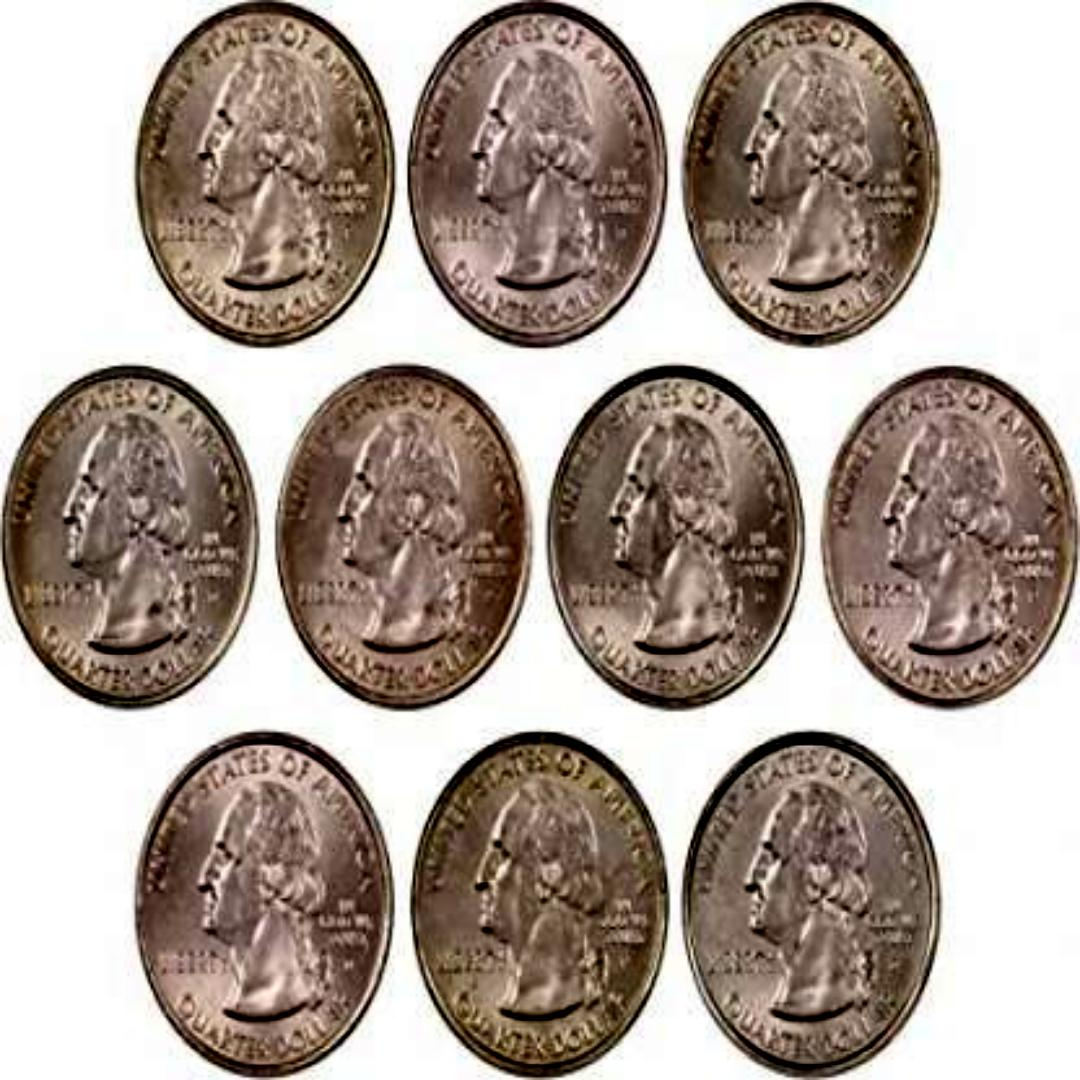Quarter: (133, 10, 395, 362), (548, 365, 802, 707), (282, 370, 536, 712), (138, 731, 392, 1071), (411, 7, 670, 339), (7, 368, 261, 706), (413, 736, 667, 1068), (688, 736, 942, 1064), (693, 4, 939, 342), (827, 366, 1071, 704)
